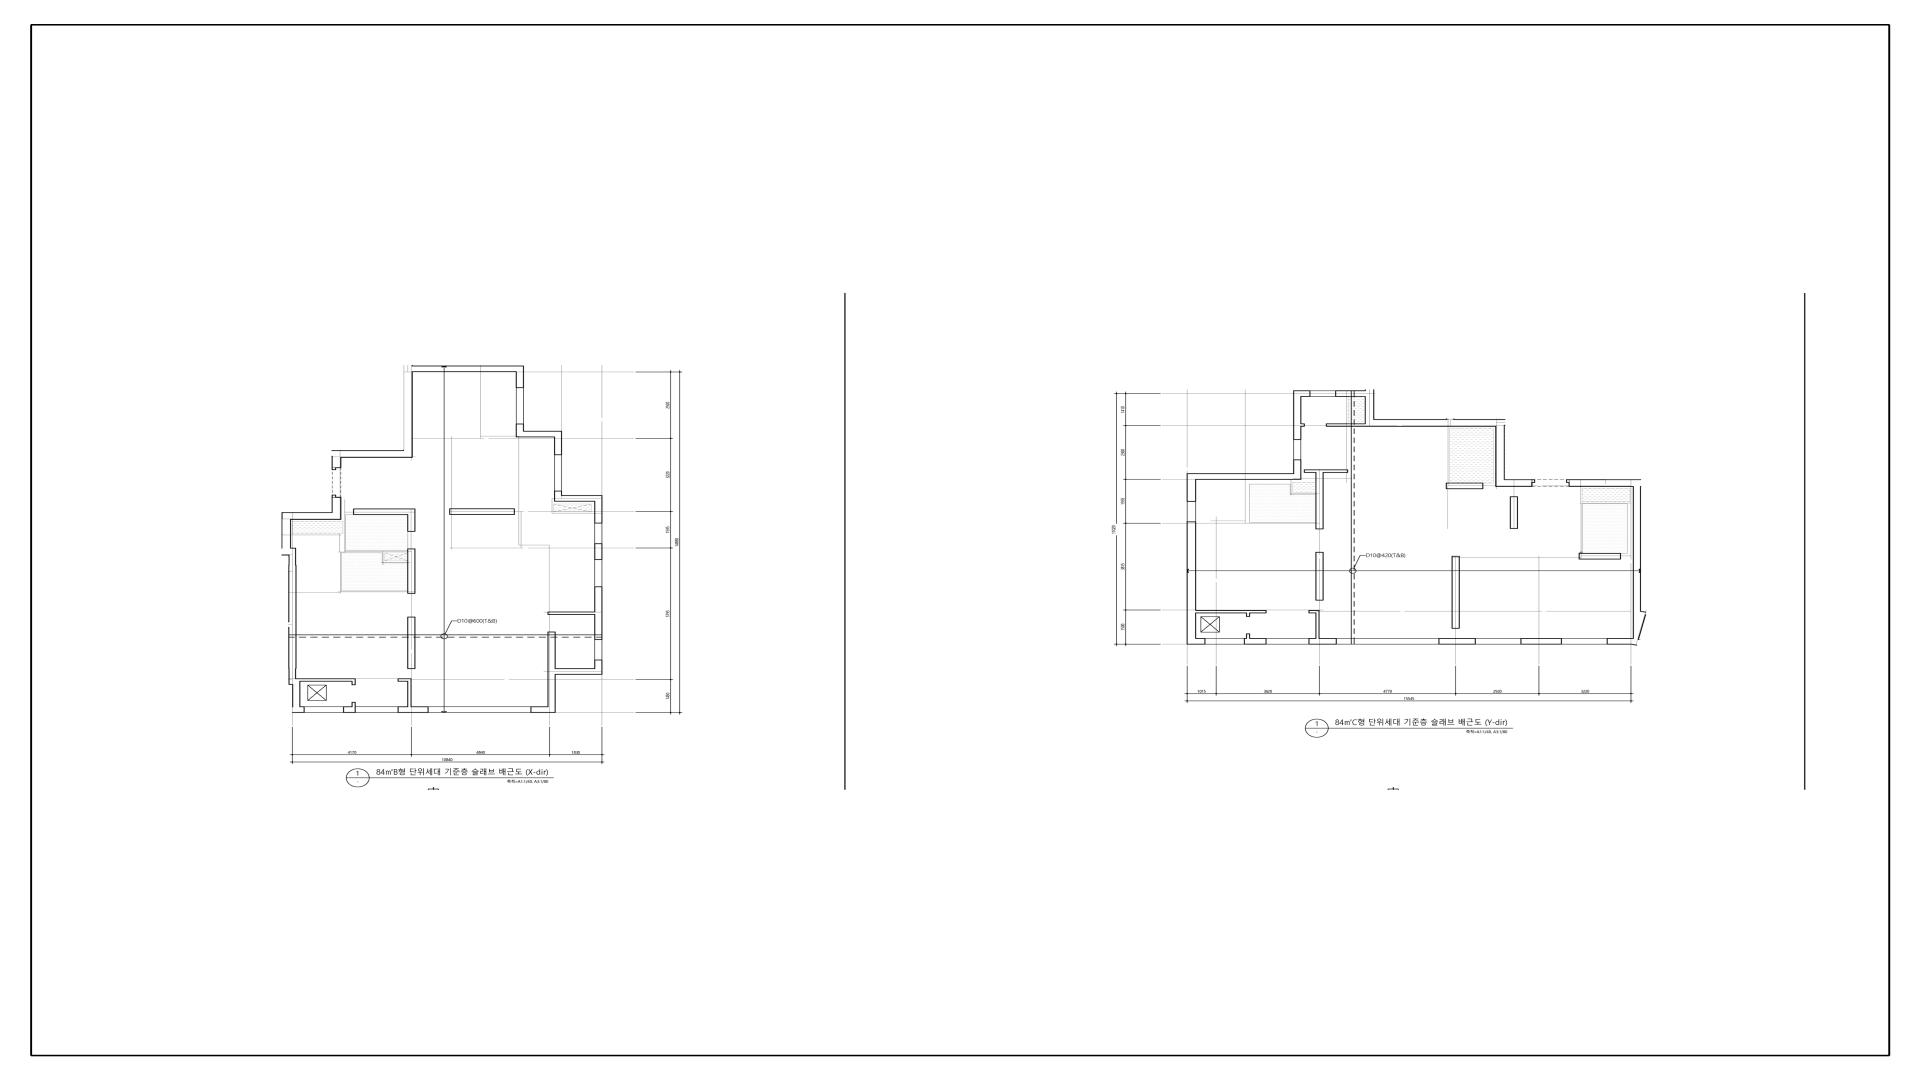wall: (1187, 522, 1196, 638), (1374, 419, 1505, 427), (1633, 487, 1640, 611), (289, 555, 297, 678), (404, 365, 524, 372), (404, 372, 413, 450), (1196, 473, 1302, 480), (547, 632, 555, 707), (1452, 556, 1460, 629), (342, 450, 413, 458), (1495, 427, 1505, 480), (1569, 480, 1642, 487), (1316, 473, 1324, 529), (450, 509, 516, 516), (1633, 611, 1647, 640), (595, 587, 603, 640), (353, 509, 415, 516), (407, 617, 415, 669), (291, 512, 342, 520), (1316, 553, 1324, 601), (281, 512, 291, 547), (407, 549, 415, 593), (1294, 397, 1302, 440), (562, 495, 603, 502), (1365, 397, 1374, 427), (1578, 553, 1621, 559), (1520, 638, 1561, 645), (1187, 473, 1196, 502), (1510, 496, 1518, 529), (1606, 638, 1639, 646), (524, 431, 562, 438), (556, 669, 595, 675), (1445, 483, 1484, 489), (1336, 390, 1374, 397), (1439, 638, 1476, 645), (1495, 480, 1532, 487), (398, 707, 429, 713), (1308, 638, 1337, 645), (1196, 611, 1267, 613), (293, 684, 301, 707), (1304, 469, 1348, 473), (332, 450, 342, 468), (595, 502, 603, 524), (530, 707, 555, 713), (1244, 638, 1267, 645), (1327, 423, 1365, 427), (554, 438, 562, 455), (595, 543, 603, 560), (301, 679, 352, 682), (332, 497, 342, 512), (547, 612, 595, 615), (595, 659, 603, 675), (281, 547, 297, 555), (407, 516, 415, 531), (516, 372, 524, 388), (1187, 638, 1205, 645), (516, 423, 524, 438), (1294, 459, 1302, 473), (1294, 390, 1311, 397), (407, 679, 411, 707), (1316, 613, 1320, 638), (343, 707, 356, 713), (291, 707, 305, 713), (554, 491, 562, 501), (289, 678, 301, 684), (398, 678, 407, 682), (1308, 611, 1320, 613), (352, 679, 356, 686), (352, 702, 356, 707), (1246, 633, 1250, 638), (1246, 613, 1250, 617), (1302, 423, 1305, 427), (332, 495, 336, 497), (332, 468, 336, 471), (1532, 480, 1535, 483), (1567, 480, 1569, 483)
